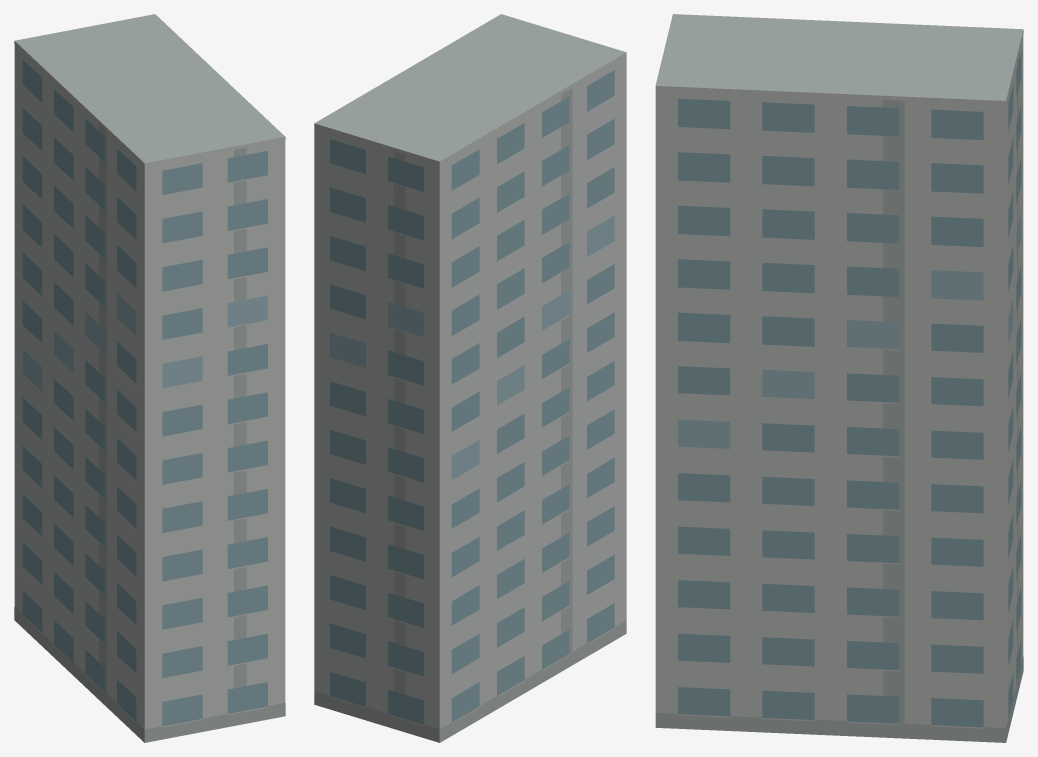
The model's file is residential-09bb0d57-41fc-4b1b-b3c9-fbc5884a939c.glb.
3 views of the same model, side by side, from view 1: azimuth 30°, elevation 25°; view 2: azimuth 150°, elevation 25°; view 3: azimuth 270°, elevation 25° (orthographic). The views are drawn at different scales.
Parts seen in each view (by area): view 1: residential-09bb0d57-41fc-4b1b-b3c9-fbc5884a939c.tmp; view 2: residential-09bb0d57-41fc-4b1b-b3c9-fbc5884a939c.tmp; view 3: residential-09bb0d57-41fc-4b1b-b3c9-fbc5884a939c.tmp.
Boxes of the visible parts, box(x1,y1,x2,y2) form: residential-09bb0d57-41fc-4b1b-b3c9-fbc5884a939c.tmp: box(14, 14, 285, 742); residential-09bb0d57-41fc-4b1b-b3c9-fbc5884a939c.tmp: box(314, 14, 626, 742); residential-09bb0d57-41fc-4b1b-b3c9-fbc5884a939c.tmp: box(655, 14, 1023, 742).
Size of the model in its own units: 11.34 by 39 by 20.27.
